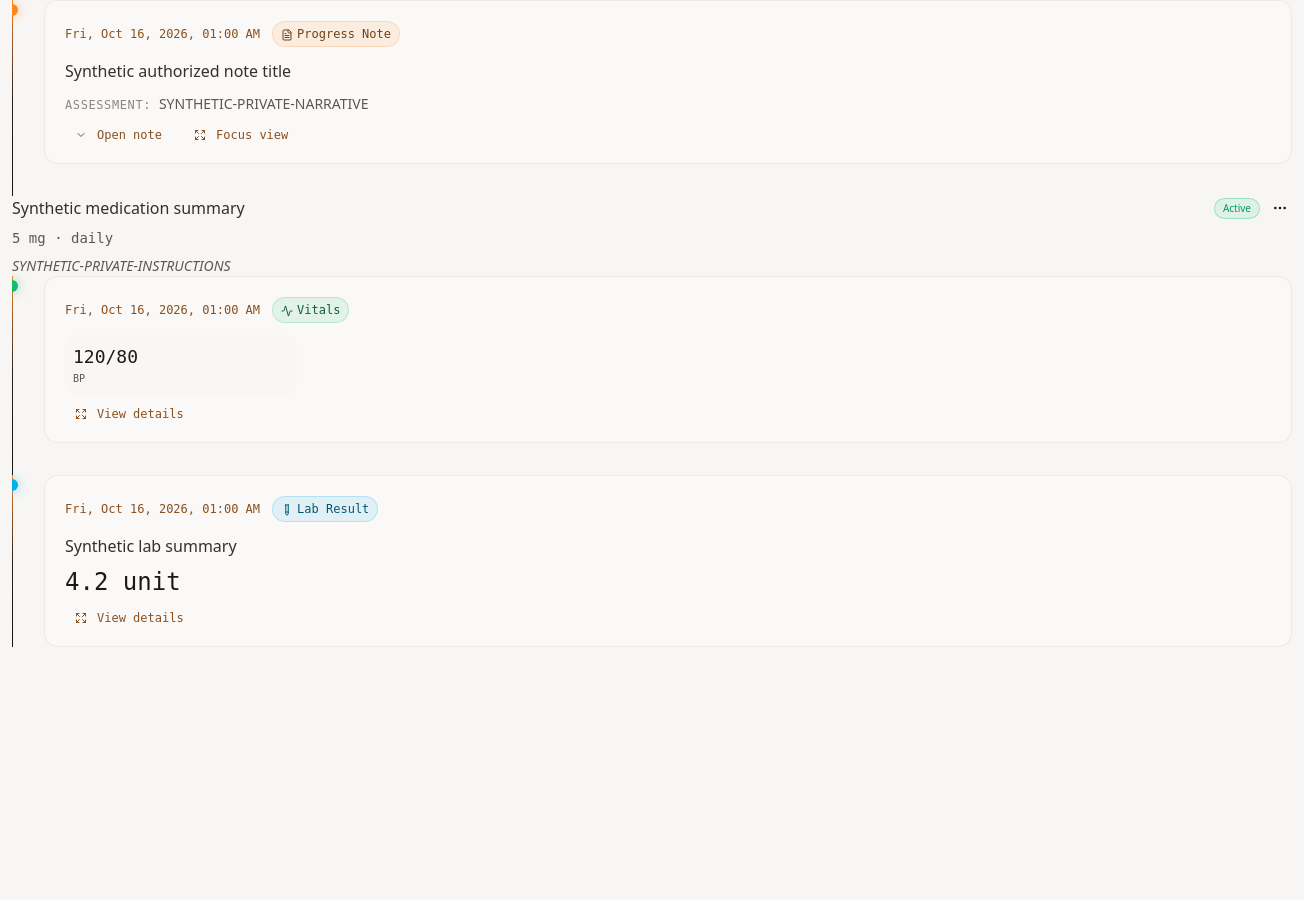
Test: allows full read/expansion without granting note editing or prescribing from the data class alone
Expected: the button "Open note" is shown, [65,127,172,143]
Click the button named "Prescription actions": (1280, 208) [1268,196,1292,220]
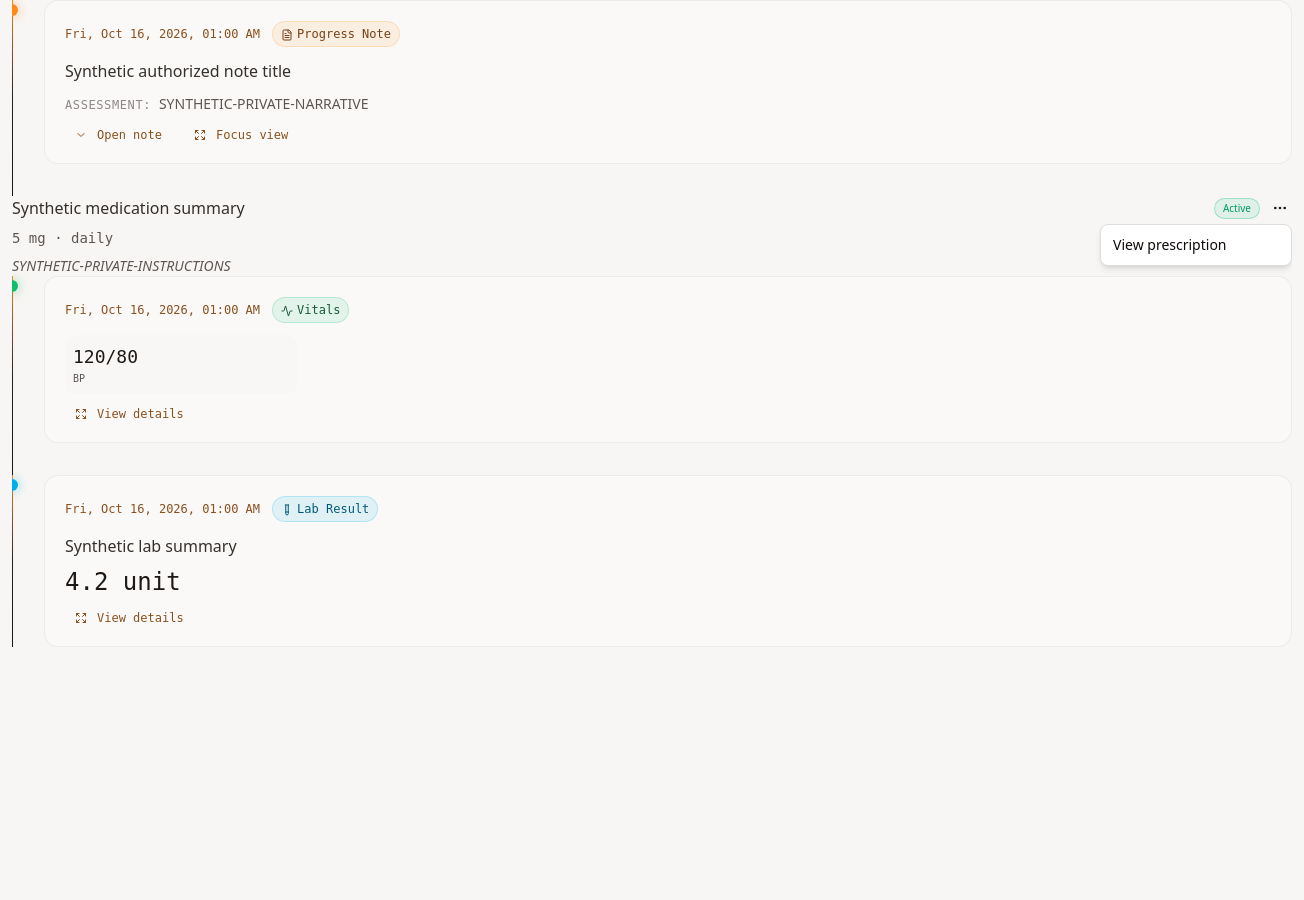
Now the menu item "View prescription" is shown, box [1113,235,1226,254]
